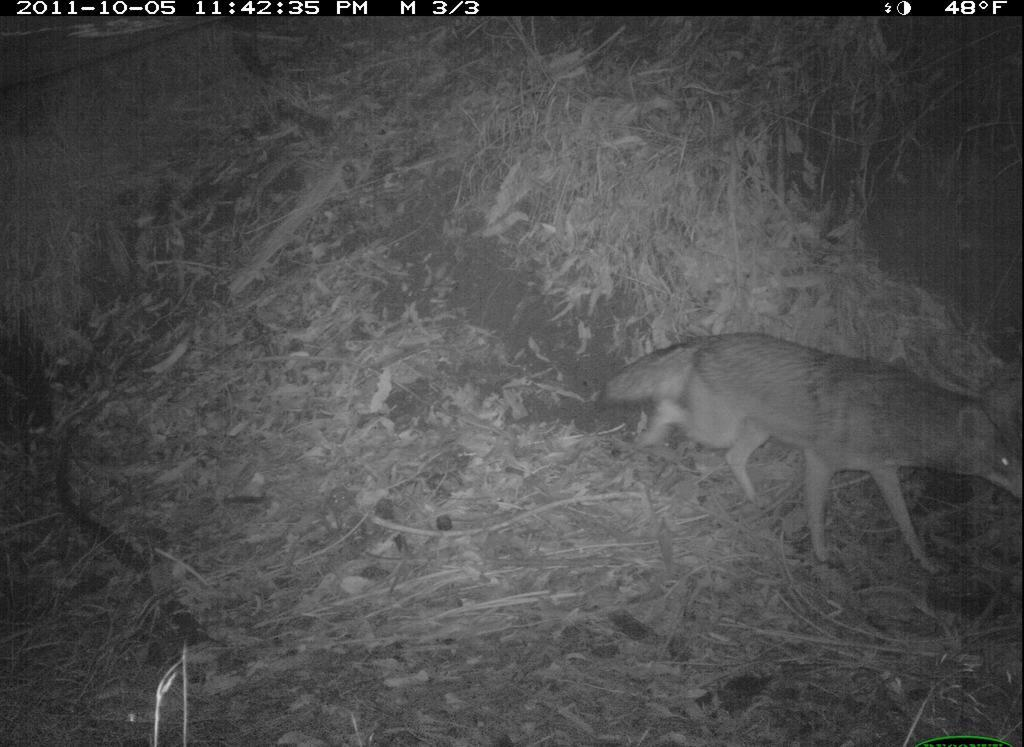coyote: (579, 331, 1017, 591)
